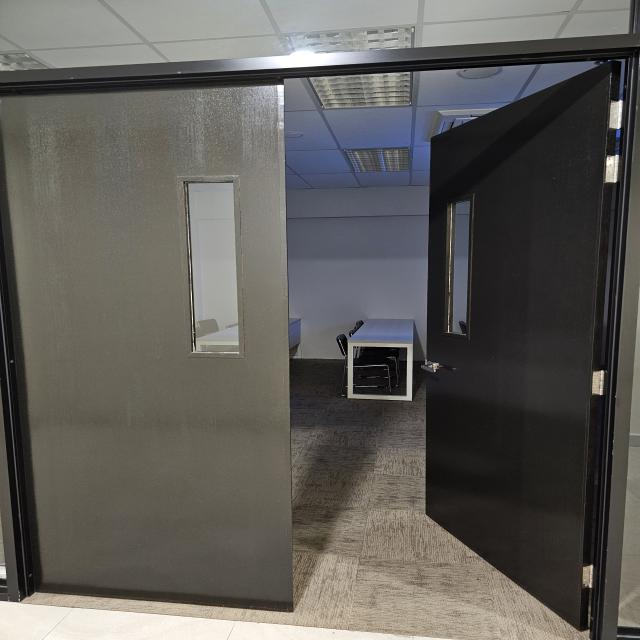door: (0, 79, 289, 625), (412, 50, 629, 632)
